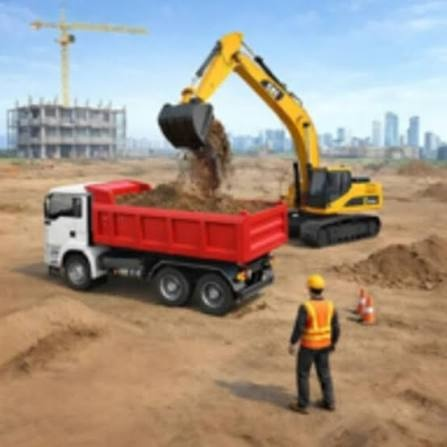excavator: (138, 27, 403, 271)
truck: (46, 172, 320, 324)
